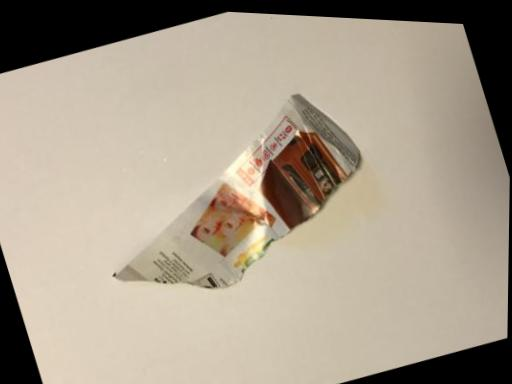paper: (38, 47, 417, 364)
